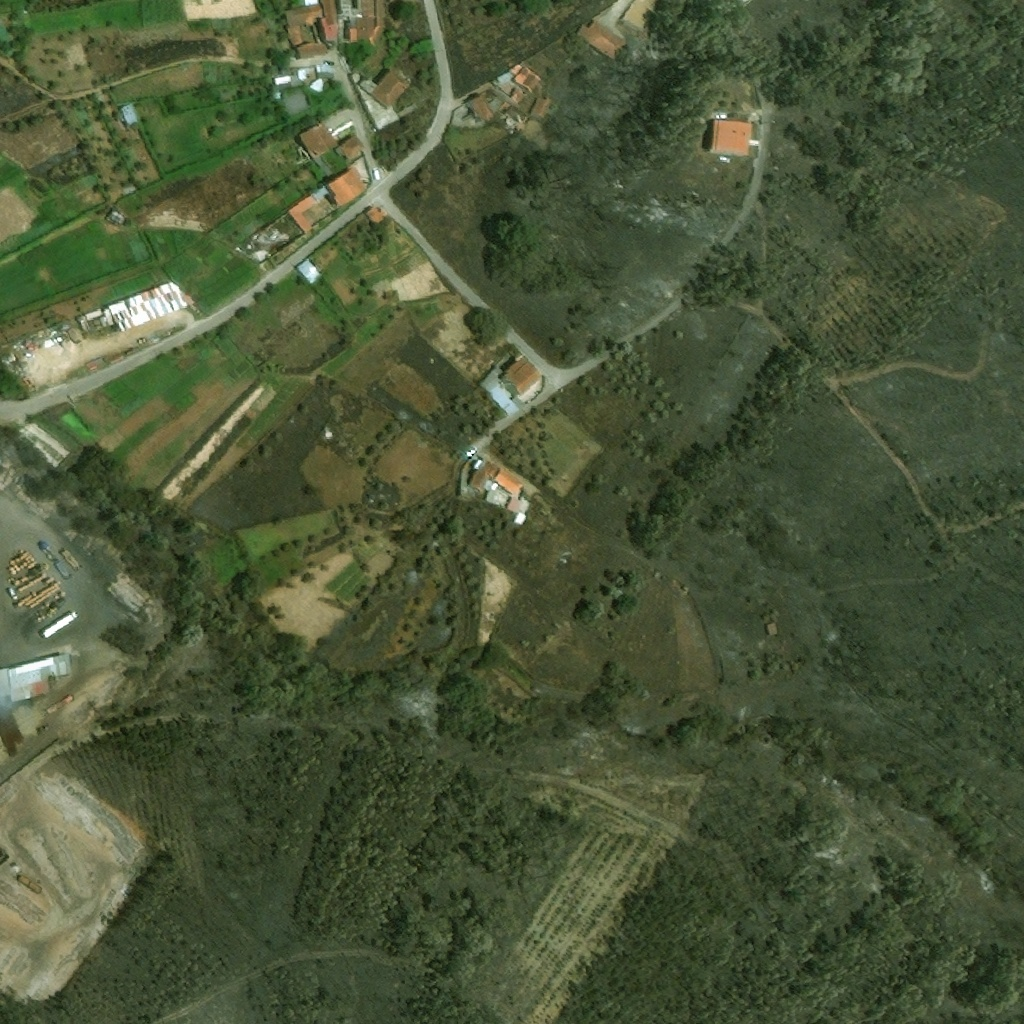0 no-damage: (107, 280, 188, 331), (350, 67, 413, 129), (0, 656, 61, 703), (575, 18, 631, 63), (499, 355, 547, 403), (324, 165, 369, 209), (286, 0, 324, 47), (340, 0, 381, 42), (298, 120, 340, 159), (708, 120, 753, 156), (287, 194, 317, 234), (468, 458, 499, 495), (334, 133, 367, 164), (510, 63, 542, 93), (465, 94, 495, 124), (495, 469, 524, 498), (317, 0, 337, 42), (295, 257, 322, 286), (499, 100, 528, 125), (282, 92, 311, 115), (296, 41, 330, 59), (366, 202, 390, 226), (529, 97, 551, 120), (105, 206, 128, 228), (119, 103, 139, 126), (310, 184, 331, 204), (508, 88, 528, 107), (505, 496, 523, 514), (297, 68, 316, 81), (273, 75, 292, 87), (514, 511, 528, 526), (270, 91, 282, 102), (316, 64, 330, 73)
4 un-classified: (119, 180, 137, 196)
